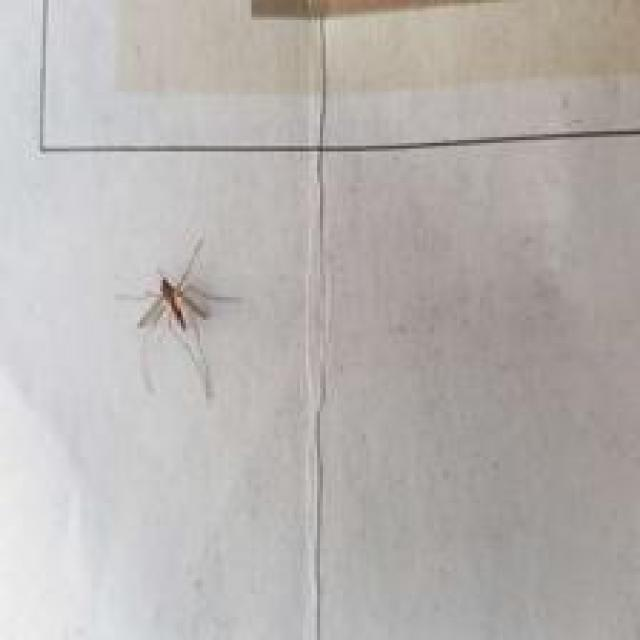Culex: (114, 236, 243, 401)
